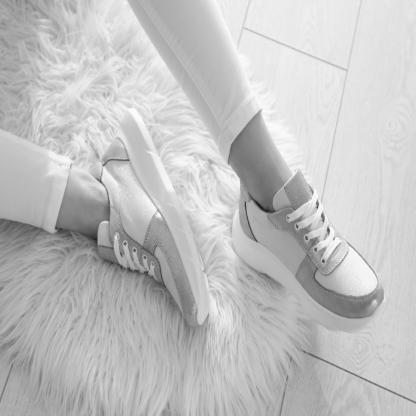ankle: (215, 113, 295, 206), (57, 156, 107, 255)
left_foot: (226, 178, 393, 331)
right_foot: (84, 114, 215, 350)
